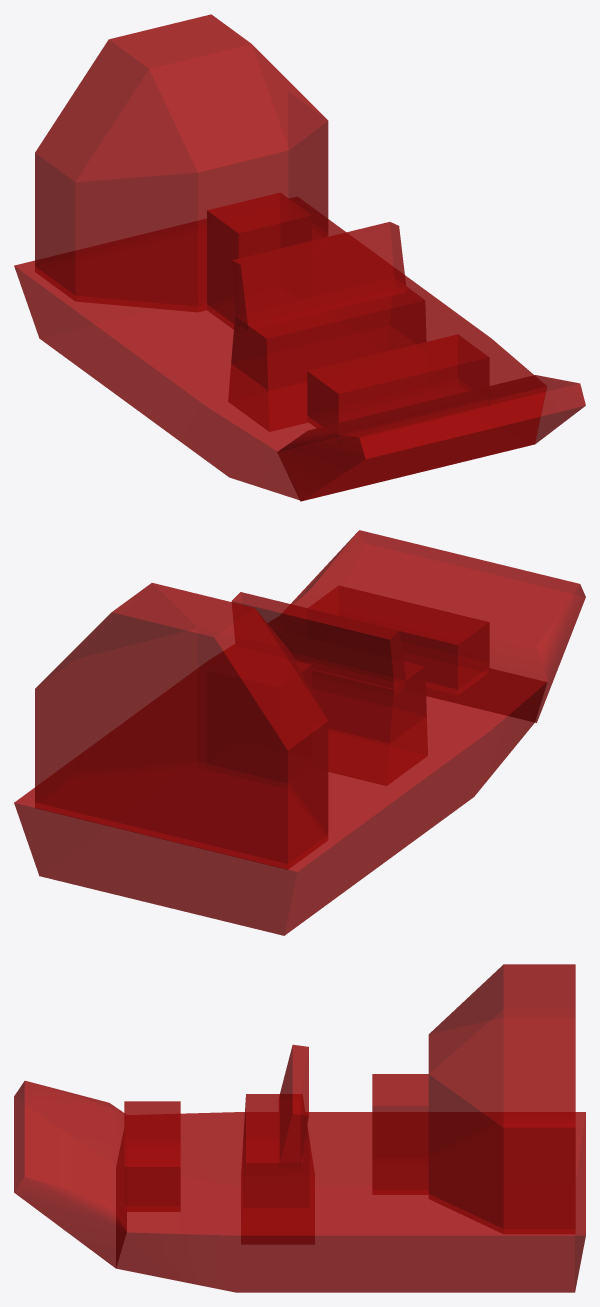
Rendered from SM_Veh_Airboat_01_Collision.fbx.
The picture shows the model from 3 angles, top to bottom: view 1: azimuth 30°, elevation 25°; view 2: azimuth 150°, elevation 25°; view 3: azimuth 270°, elevation 25°; orthographic projection. The views are drawn at different scales.
Parts seen in each view (by area): view 1: SM_Veh_Airboat_01_Collision; view 2: SM_Veh_Airboat_01_Collision; view 3: SM_Veh_Airboat_01_Collision.
Boxes of the visible parts, x1,y1,x2,y2 form: SM_Veh_Airboat_01_Collision: (14, 14, 585, 501); SM_Veh_Airboat_01_Collision: (14, 530, 585, 935); SM_Veh_Airboat_01_Collision: (14, 964, 585, 1292).
Size of the model in its own units: 244 by 231 by 476.
